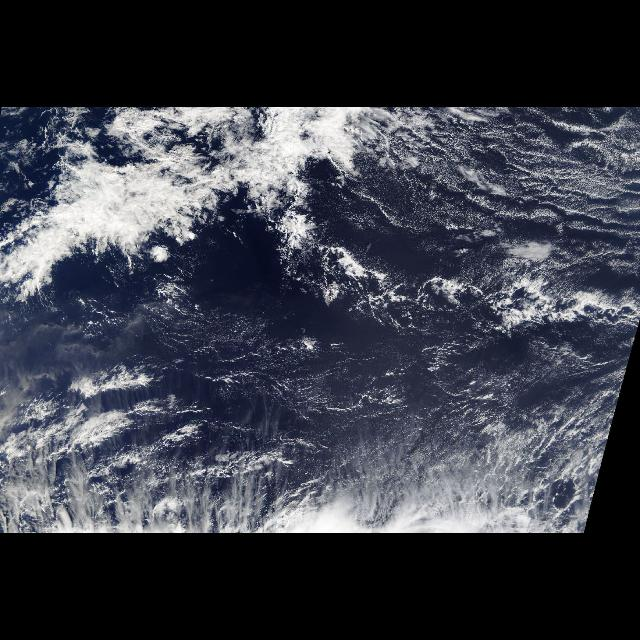Fish: (0, 108, 638, 350)
Sugar: (141, 299, 625, 533), (400, 109, 640, 264)
